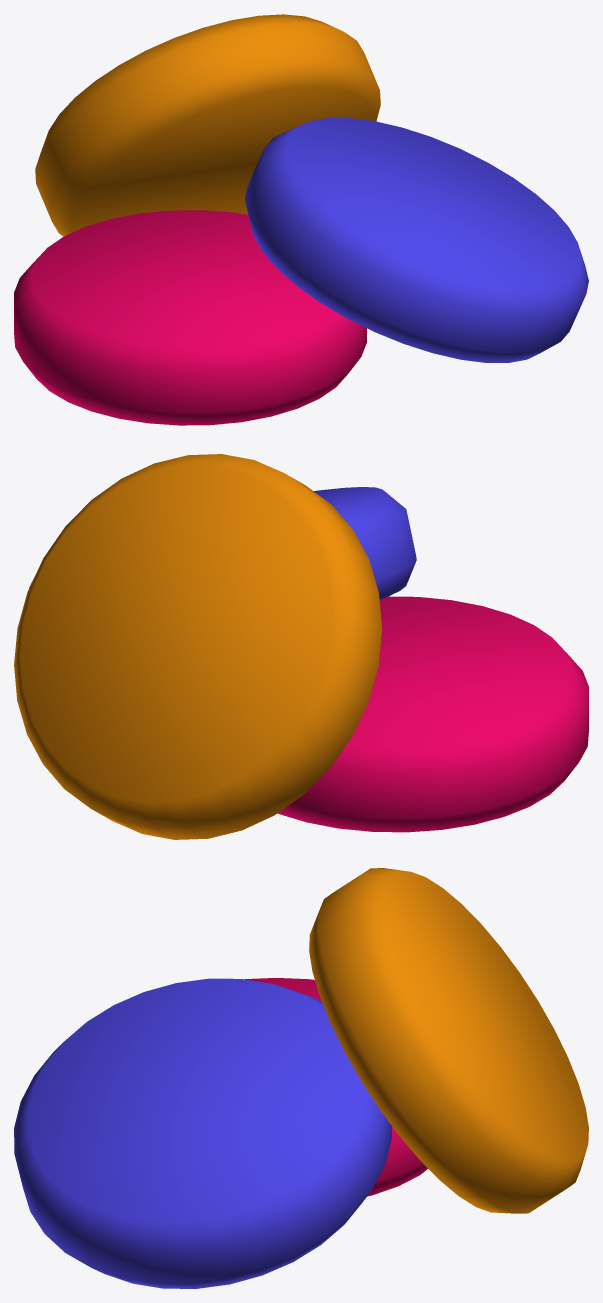
The model's file is pill_screen_darken.glb.
3 views of the same model, one above another, from view 1: azimuth 30°, elevation 25°; view 2: azimuth 150°, elevation 25°; view 3: azimuth 270°, elevation 25° (orthographic). The views are drawn at different scales.
Parts seen in each view (by area): view 1: Plane.003; view 2: Plane.003; view 3: Plane.003.
Boxes of the visible parts, x1=… form: Plane.003: x1=14, y1=14, x2=588, y2=425; Plane.003: x1=14, y1=454, x2=588, y2=839; Plane.003: x1=14, y1=868, x2=588, y2=1288.
Bounding box in the file's own units: 2.51 × 1.37 × 2.37.
